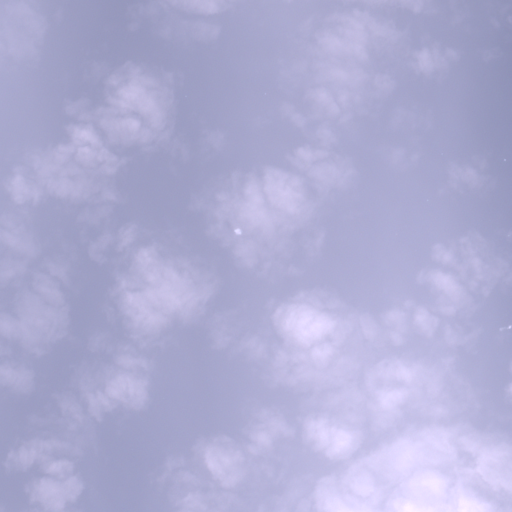Iceberg: (235, 229, 240, 233)
